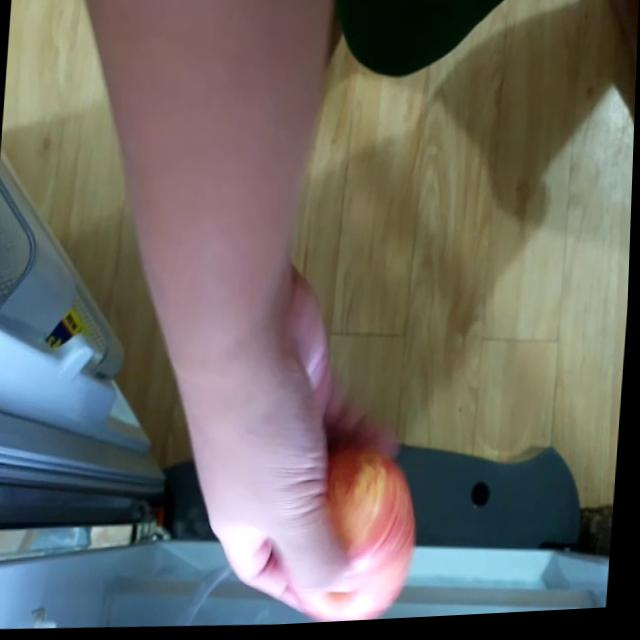apple: (279, 439, 426, 628)
